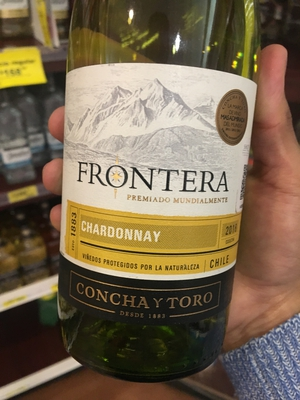frontera chardonnay: (55, 30, 268, 379)
